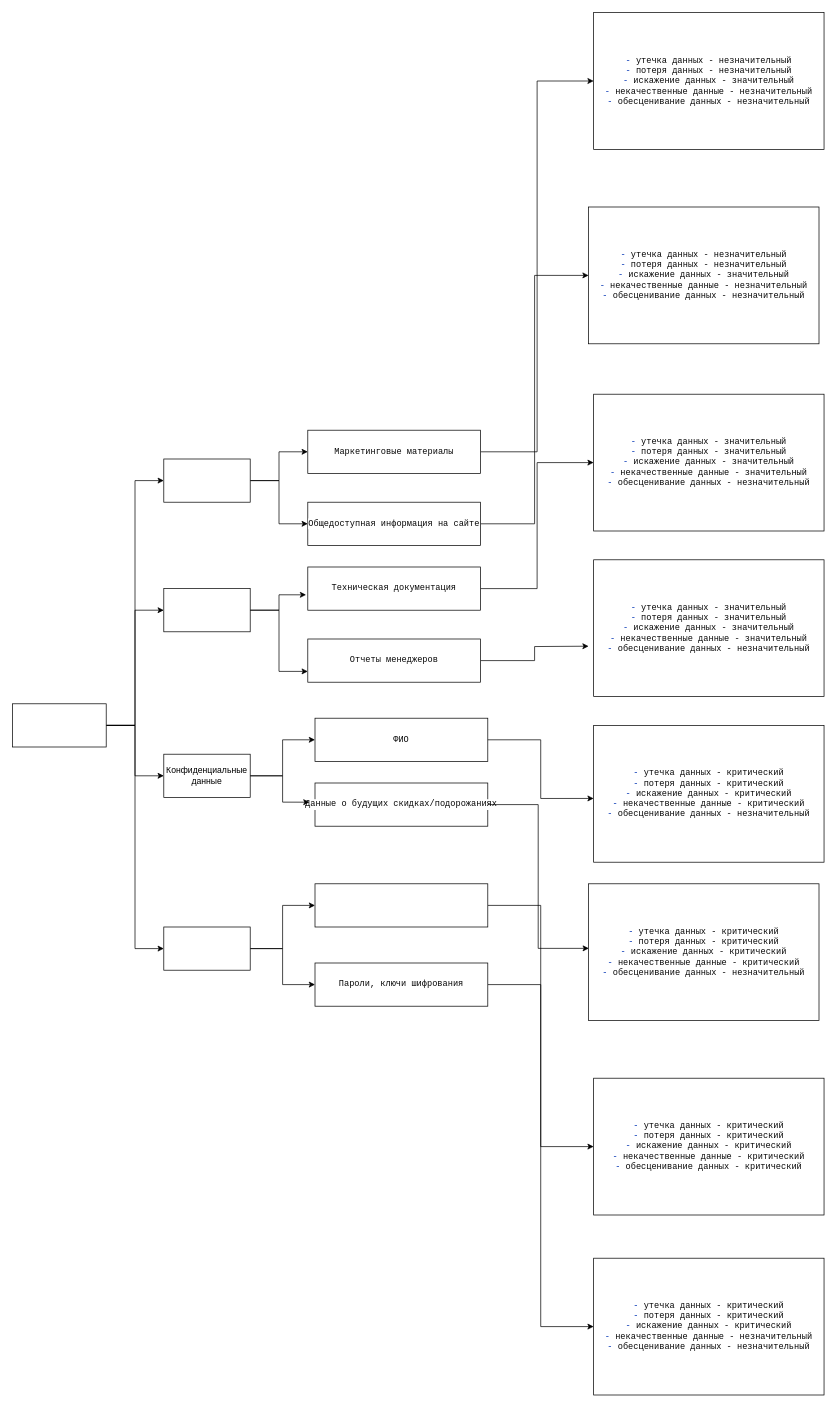
Some shapes in this 837 by 1408 pixel diagram are drawn without their labels. Each missing label, with the box of its shape:
Безопасность данных: (12, 703, 106, 747)
Внутренние данные: (163, 588, 250, 632)
Планы развития компании: (314, 883, 488, 927)
Публичные данные: (163, 458, 250, 502)
Секретные данные: (163, 926, 250, 970)
